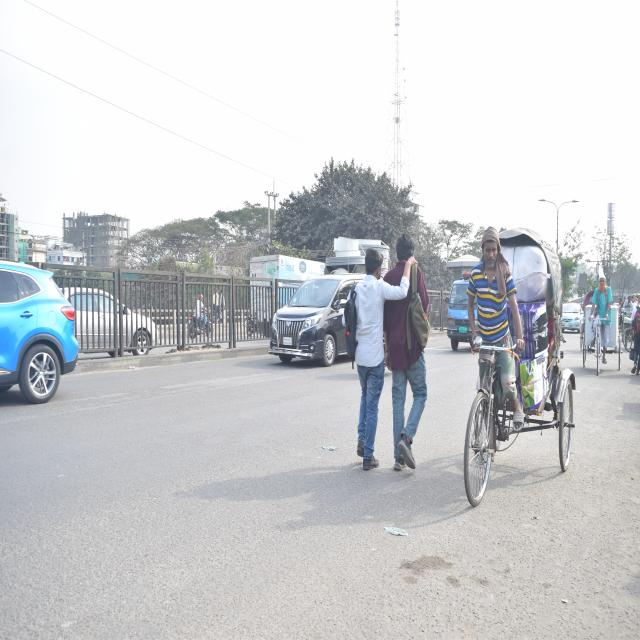car: (0, 256, 83, 424), (267, 269, 358, 367), (558, 293, 583, 342)
pickup-van: (441, 261, 480, 356)
